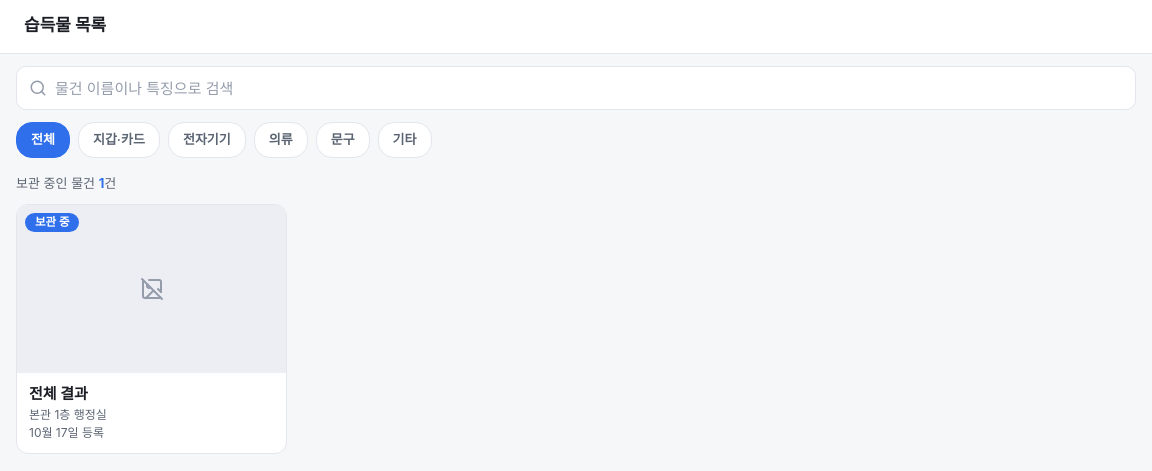
Test: FoundListPage › 결과가 없으면 [필터 지우기] — 누르면 전체로 돌아간다
Expected: the text "전체 결과" is shown, [29, 384, 88, 403]
Click the radio button labelled "문구" at (343, 140), box [316, 122, 370, 158]
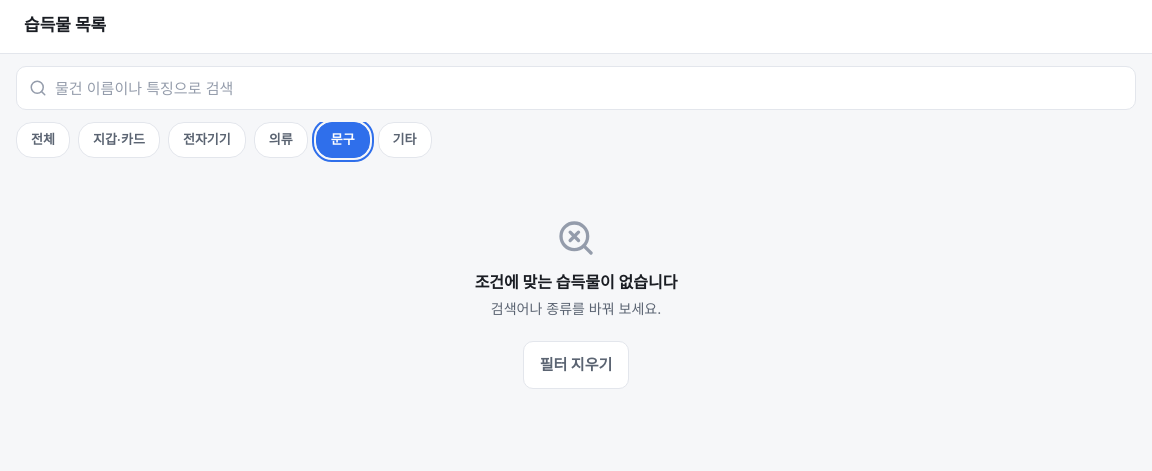
Now the text "조건에 맞는 습득물이 없습니다" is shown, box [475, 270, 677, 294]
Click the button "필터 지우기" at (576, 365), box [523, 341, 629, 389]
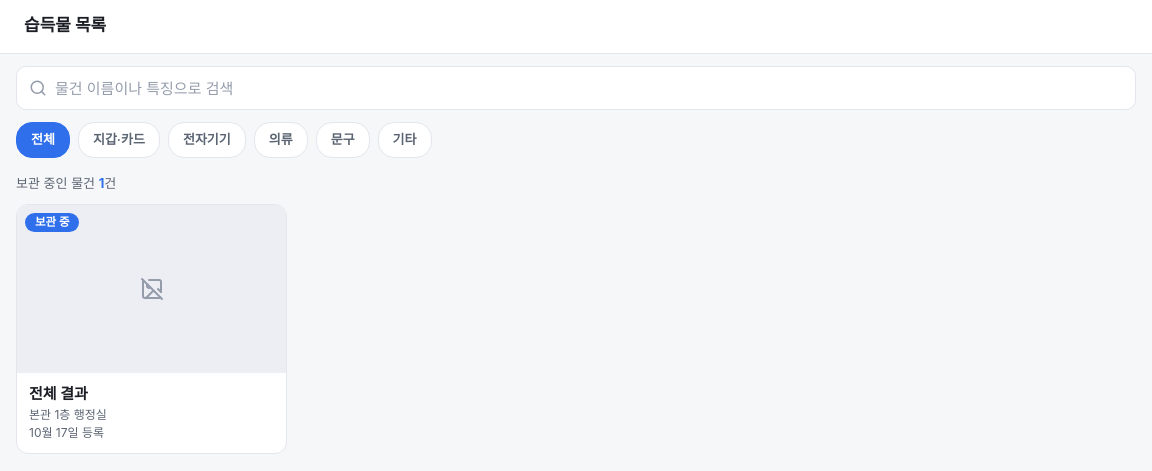
Now the text "전체 결과" is shown, box [29, 384, 88, 403]
